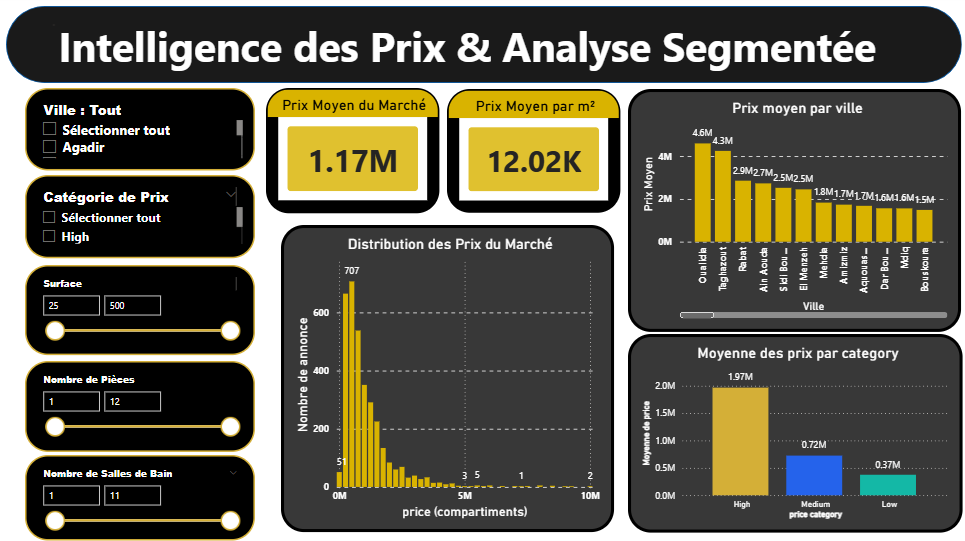

The page's visual inventory and layout, read from the dashboard file:
{"tool":"powerbi","page":{"name":"Page 2","canvas":[1280,720],"ordinal":1},"visuals":[{"type":"shape","box":[14.4,14.4,1251.4,100.8],"z":0},{"type":"textbox","box":[60.5,24.5,1139,97.9],"z":1000},{"type":"slicer","fields":{"Values":["bi_schema dim_location.city"]},"box":[38.8,121.2,301.2,107.6],"z":2000},{"type":"slicer","fields":{"Values":["bi_schema dim_price_category.price_category"]},"box":[38.8,235.3,301.2,109.4],"z":3000},{"type":"slicer","fields":{"Values":["bi_schema fact_annonce.surface"]},"box":[38.8,352.9,301.2,118.2],"z":4000},{"type":"slicer","fields":{"Values":["bi_schema fact_annonce.rooms"]},"box":[38.8,478.8,301.2,119.4],"z":5000},{"type":"slicer","fields":{"Values":["bi_schema fact_annonce.baths"]},"box":[38.8,602.4,301.2,112.4],"z":6000},{"type":"cardVisual","title":"Prix Moyen du Marché","fields":{"Data":["Avg(bi_schema fact_annonce.price)"]},"box":[355.1,121.1,227.1,163.8],"z":7000},{"type":"cardVisual","title":"Prix Moyen par m²","fields":{"Data":["Avg(bi_schema fact_annonce.price_meter)"]},"box":[591.8,122.5,227.1,162.4],"z":8000},{"type":"clusteredColumnChart","title":"Distribution des Prix du Marché","fields":{"Y":["CountNonNull(bi_schema fact_annonce.annonce_id)"],"Category":["bi_schema fact_annonce.price (compartiments)"]},"box":[374.4,301.1,435.9,401.9],"z":9000},{"type":"columnChart","title":"Moyenne des prix par category","fields":{"Y":["Avg(bi_schema fact_annonce.price)"],"Category":["bi_schema dim_price_category.price_category"]},"box":[828.6,443.2,437.7,260.1],"z":10000},{"type":"columnChart","title":"Prix moyen par ville","fields":{"Y":["Avg(bi_schema fact_annonce.price)"],"Category":["bi_schema dim_location.city"]},"box":[828.6,122.5,436.3,317.9],"z":11000}]}

Visuals, with their boxes in screenshot pixels (x1, y1, x2, y2), scaled from the page's 1280x720 canvas onto the 965x541 screenshot:
shape: region(11, 11, 954, 87)
textbox: region(46, 18, 904, 92)
slicer - bi_schema dim_location.city: region(29, 91, 256, 172)
slicer - bi_schema dim_price_category.price_category: region(29, 177, 256, 259)
slicer - bi_schema fact_annonce.surface: region(29, 265, 256, 354)
slicer - bi_schema fact_annonce.rooms: region(29, 360, 256, 449)
slicer - bi_schema fact_annonce.baths: region(29, 453, 256, 537)
"Prix Moyen du Marché" cardVisual: region(268, 91, 439, 214)
"Prix Moyen par m²" cardVisual: region(446, 92, 617, 214)
"Distribution des Prix du Marché" clusteredColumnChart: region(282, 226, 611, 528)
"Moyenne des prix par category" columnChart: region(625, 333, 955, 528)
"Prix moyen par ville" columnChart: region(625, 92, 954, 331)
